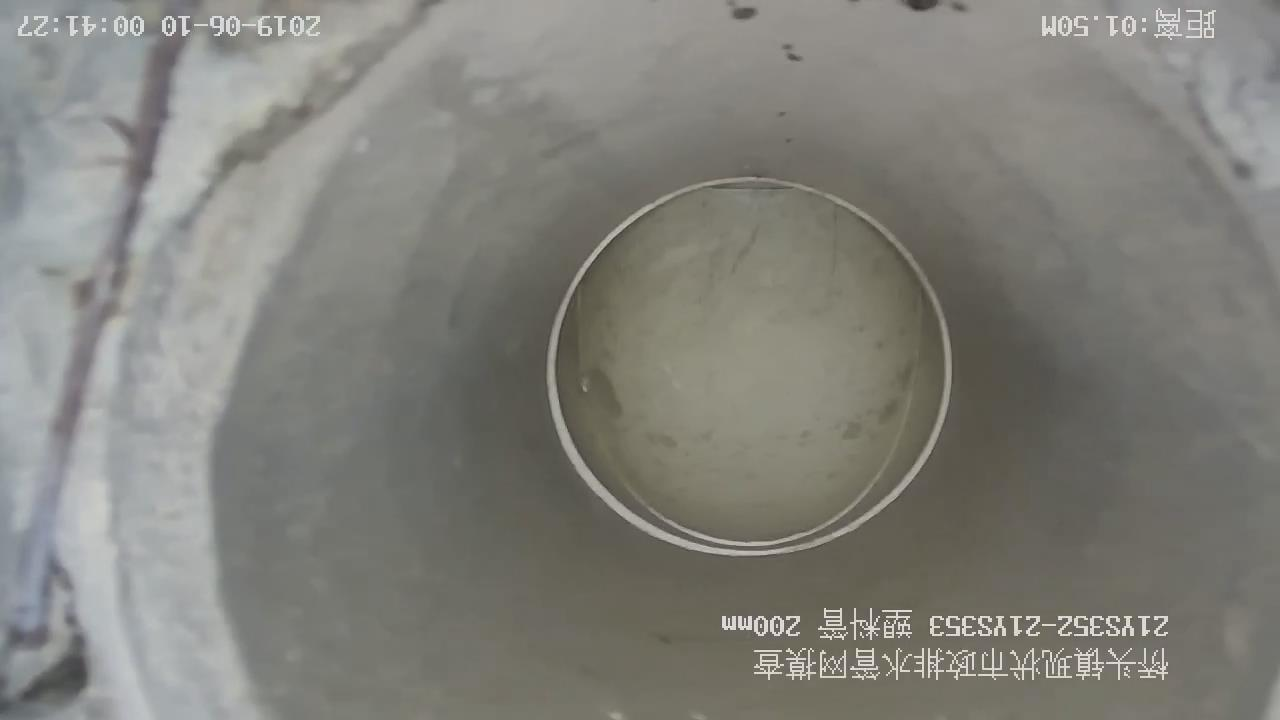CKTJ: (547, 177, 951, 555)
